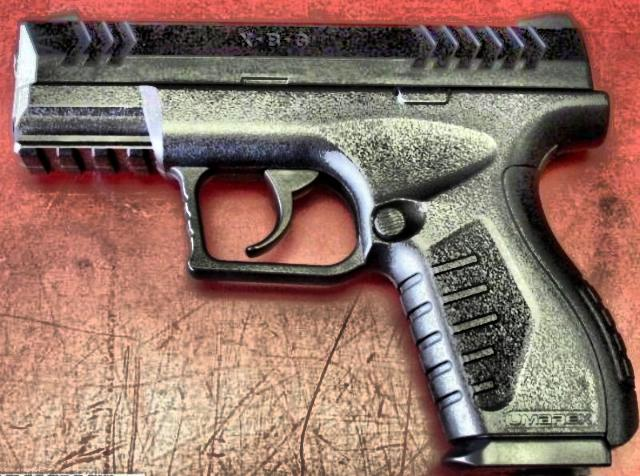pistol: (12, 3, 632, 474)
